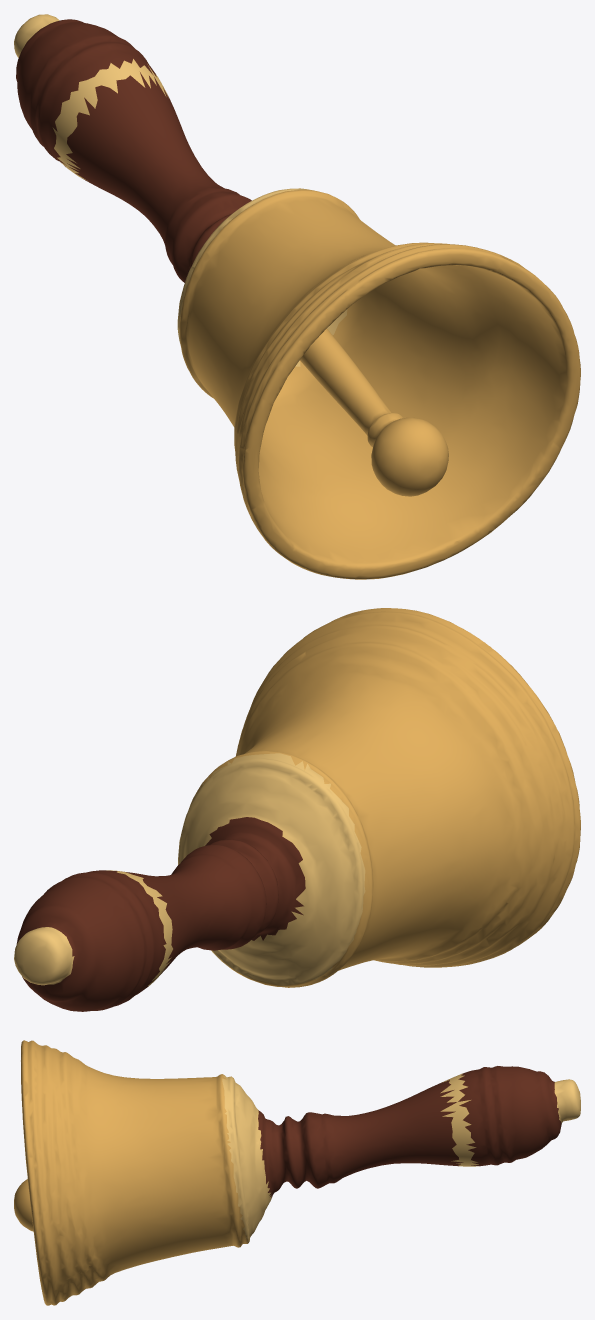
The model's file is sino.glb.
3 views of the same model, one above another, from view 1: azimuth 30°, elevation 25°; view 2: azimuth 150°, elevation 25°; view 3: azimuth 270°, elevation 25° (orthographic). The views are drawn at different scales.
Parts seen in each view (by area): view 1: tmp9l3arb2z.ply; view 2: tmp9l3arb2z.ply; view 3: tmp9l3arb2z.ply.
Boxes of the visible parts, x1,y1,x2,y2 form: tmp9l3arb2z.ply: [14, 14, 580, 579]; tmp9l3arb2z.ply: [14, 608, 580, 1011]; tmp9l3arb2z.ply: [14, 1040, 580, 1305].
Size of the model in its own units: 0.9627 by 0.9151 by 1.96.
